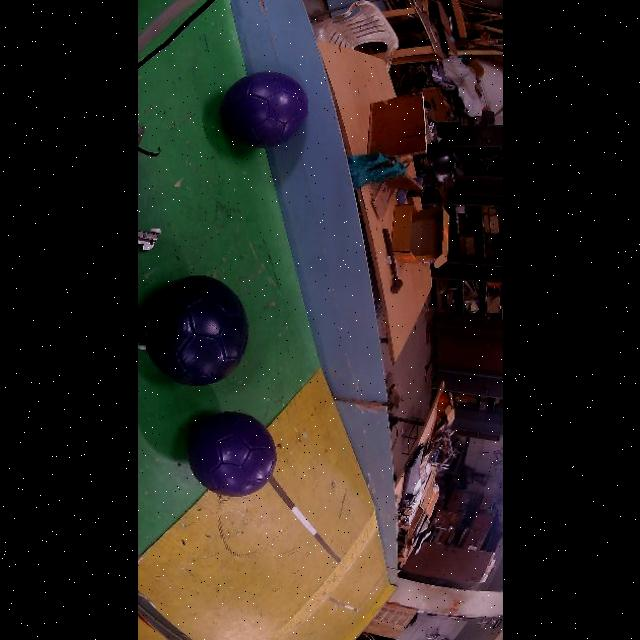B: (144, 276, 248, 386)
P: (188, 412, 277, 497), (221, 71, 308, 148)
